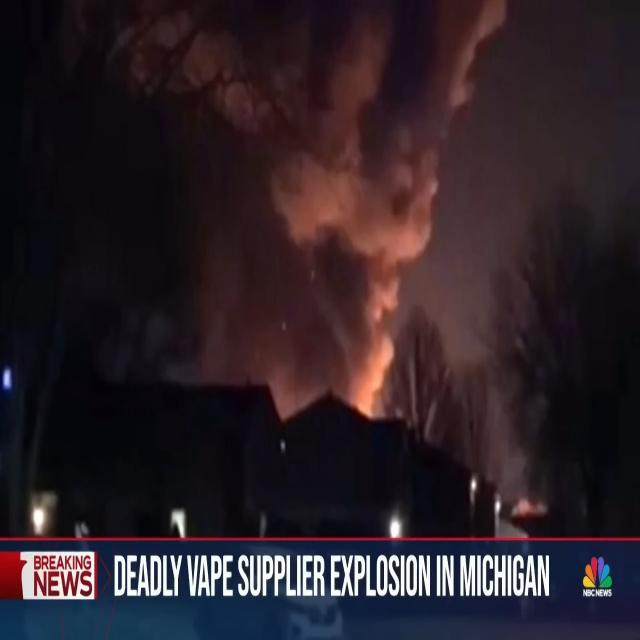fire: (240, 224, 453, 449)
